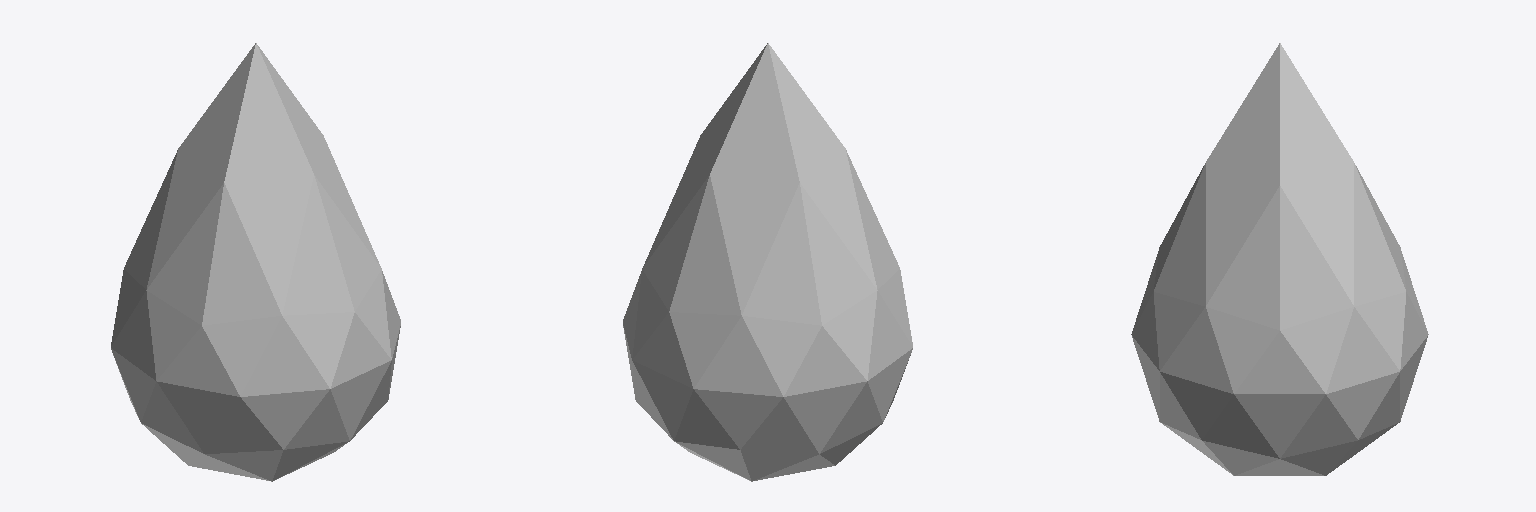
The model's file is Drop.obj.
3 views of the same model, side by side, from view 1: azimuth 30°, elevation 25°; view 2: azimuth 150°, elevation 25°; view 3: azimuth 270°, elevation 25° (orthographic).
Parts seen in each view (by area): view 1: Icosphere_Icosphere.001; view 2: Icosphere_Icosphere.001; view 3: Icosphere_Icosphere.001.
Part boxes in pixels (x1,y1,x2,y2): Icosphere_Icosphere.001: (111,43,400,481); Icosphere_Icosphere.001: (623,43,912,481); Icosphere_Icosphere.001: (1131,43,1428,475).
Size of the model in its own units: 1.06 by 1.77 by 1.11.